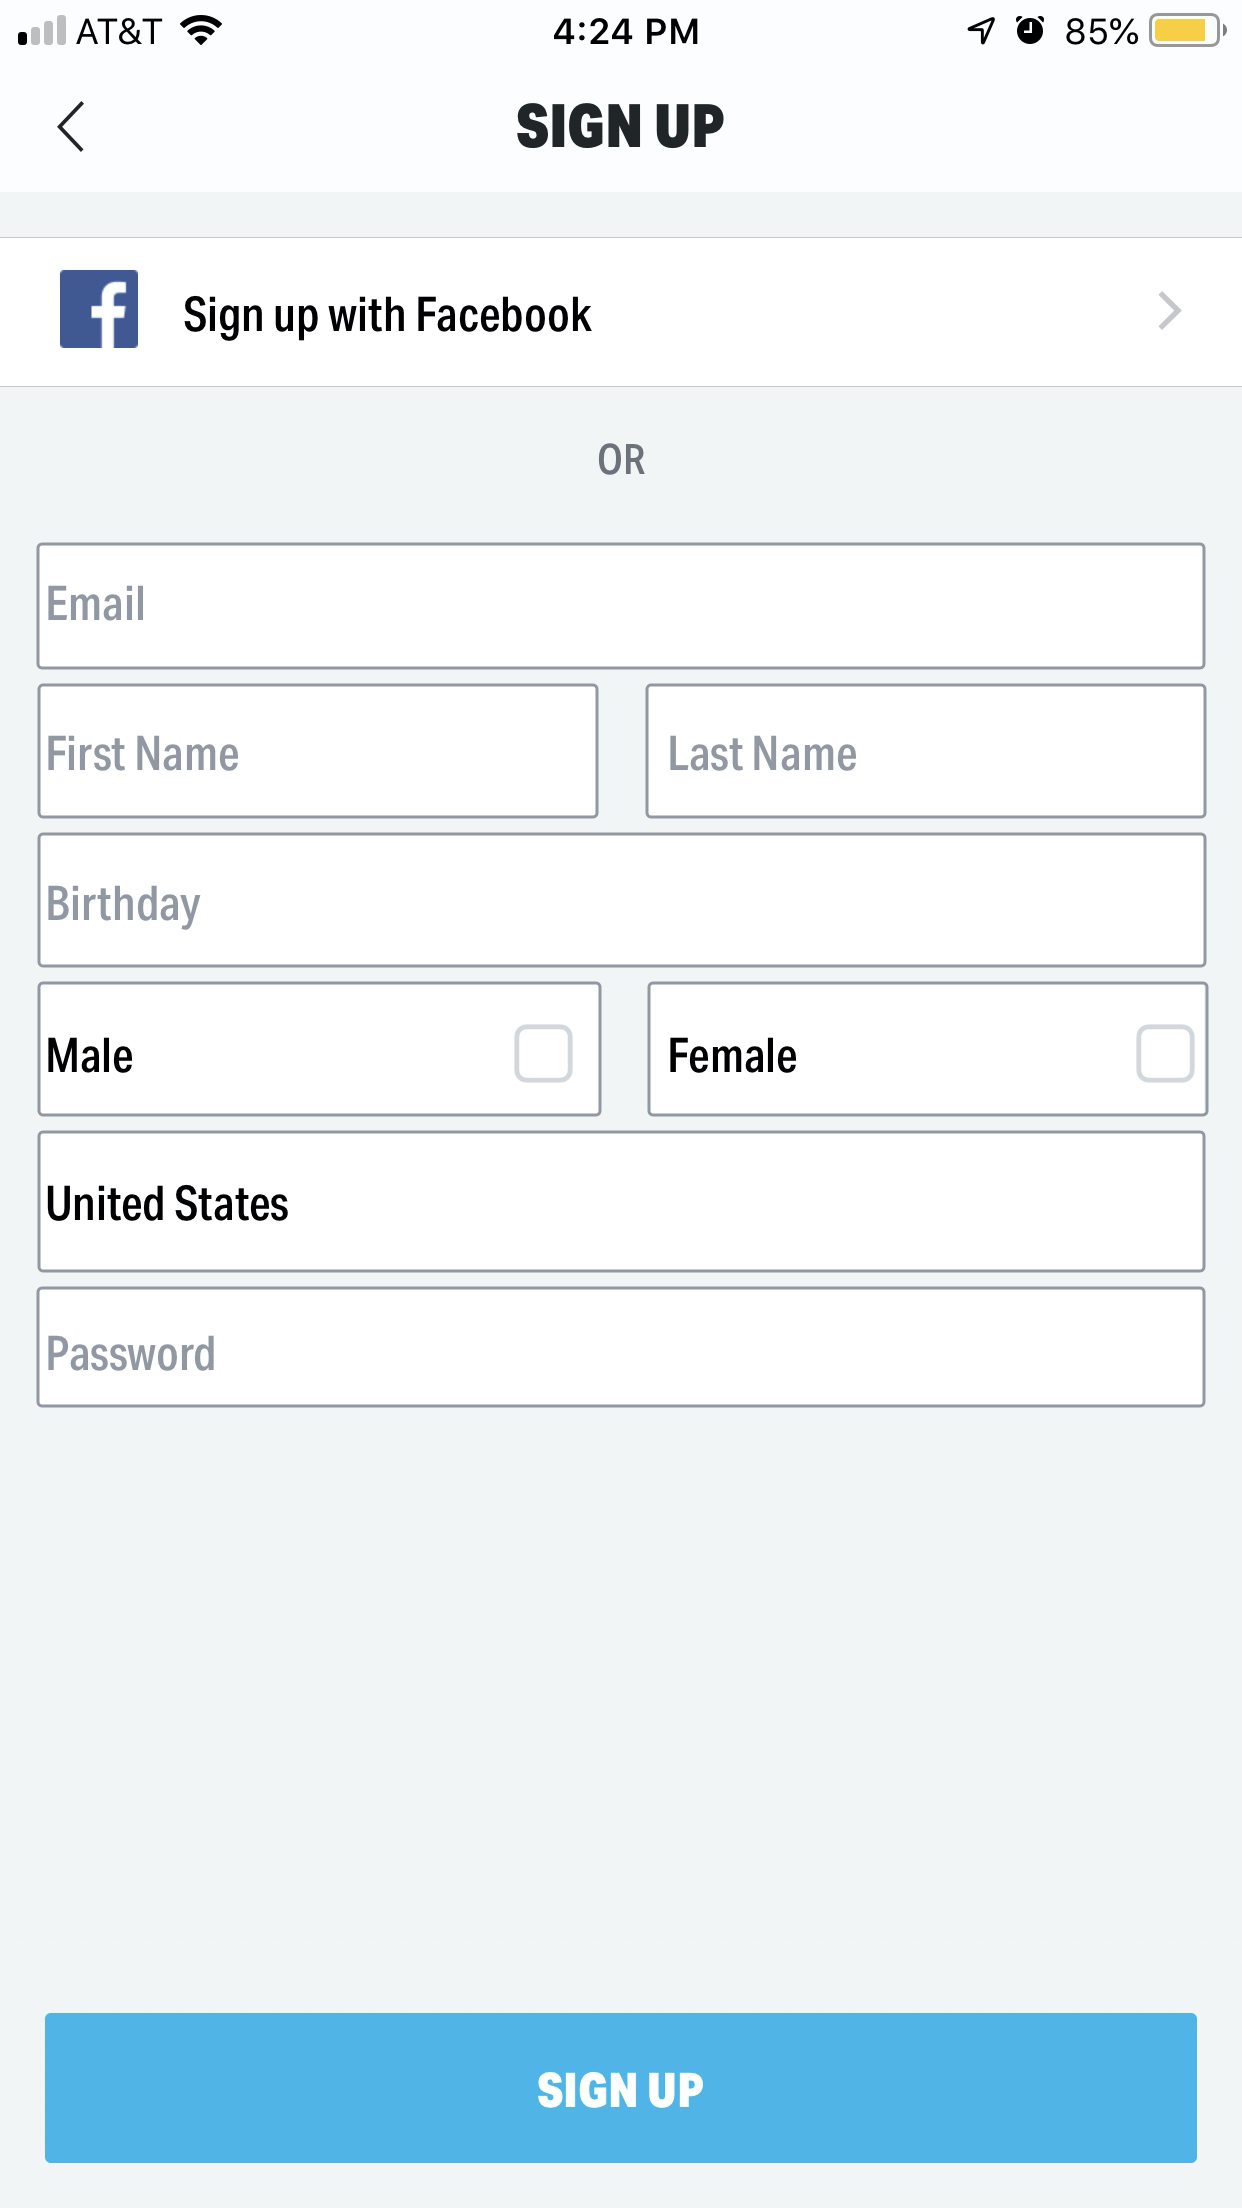CheckedTextView: (670, 1024, 1195, 1084), (49, 1025, 575, 1084)
EditText: (36, 1131, 1206, 1274), (36, 833, 1207, 969), (36, 541, 1206, 670), (36, 1287, 1206, 1409), (38, 682, 601, 820), (645, 682, 1207, 820)
Icon: (61, 270, 140, 349), (58, 102, 85, 153), (1159, 291, 1183, 331)
Text: (185, 297, 593, 343), (517, 103, 725, 149), (49, 1184, 290, 1222), (669, 735, 857, 773), (49, 886, 202, 931), (49, 735, 240, 772), (49, 1335, 215, 1372), (670, 1037, 798, 1074), (49, 585, 144, 622), (49, 1037, 133, 1074), (599, 443, 646, 476)
TextButton: (45, 2012, 1197, 2163)
UpperTaskBar: (2, 2, 1242, 49)
